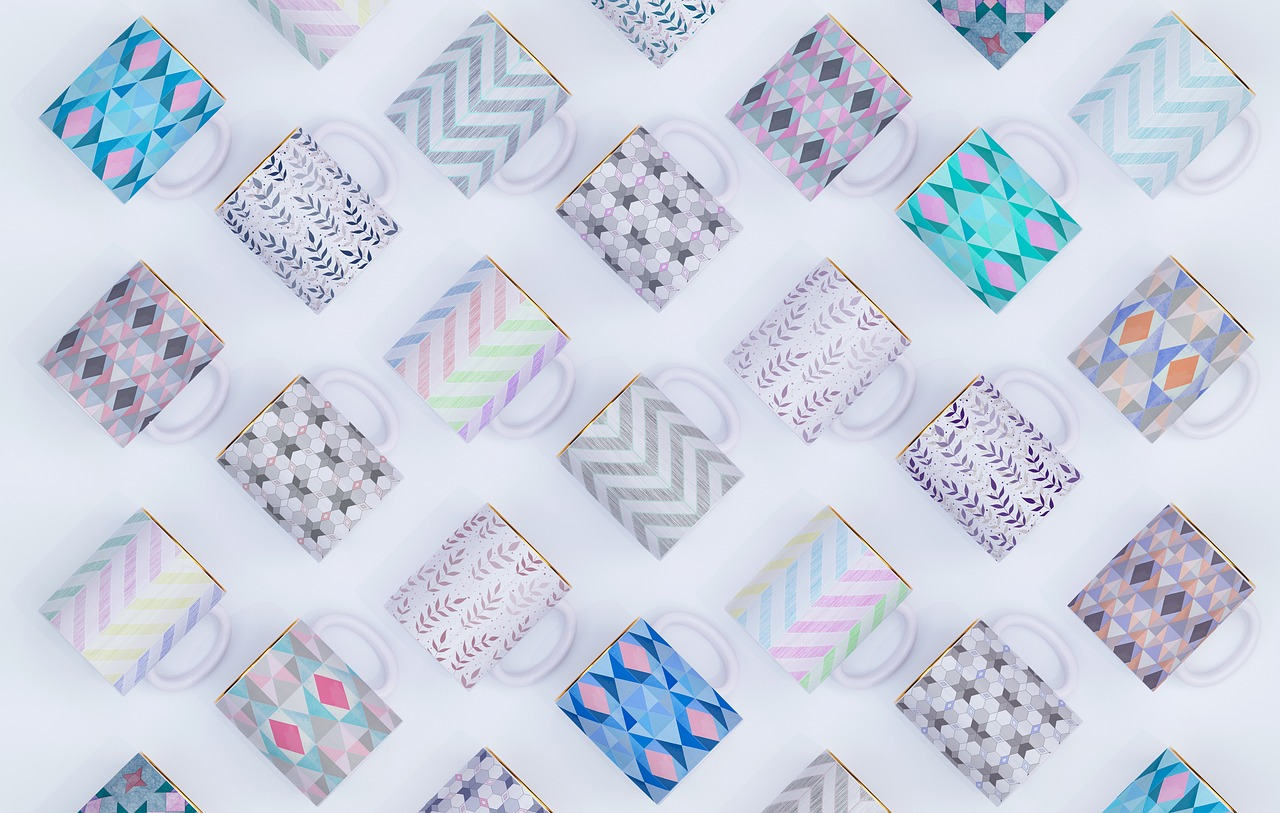mug: (377, 516, 679, 721), (865, 349, 1110, 562), (1046, 227, 1254, 475), (552, 108, 788, 326), (892, 110, 1122, 333), (709, 257, 946, 460), (869, 606, 1099, 813), (39, 10, 238, 249), (188, 396, 466, 563), (38, 504, 269, 697), (568, 616, 800, 808), (1056, 494, 1254, 705), (1066, 7, 1264, 217), (211, 591, 406, 803), (217, 116, 410, 326), (562, 360, 738, 590), (372, 253, 574, 453), (713, 515, 922, 704), (385, 8, 587, 200), (723, 23, 923, 215), (34, 267, 233, 456)
